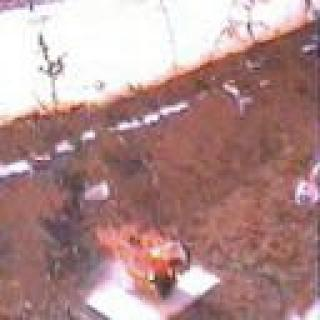fire: (91, 219, 195, 307)
